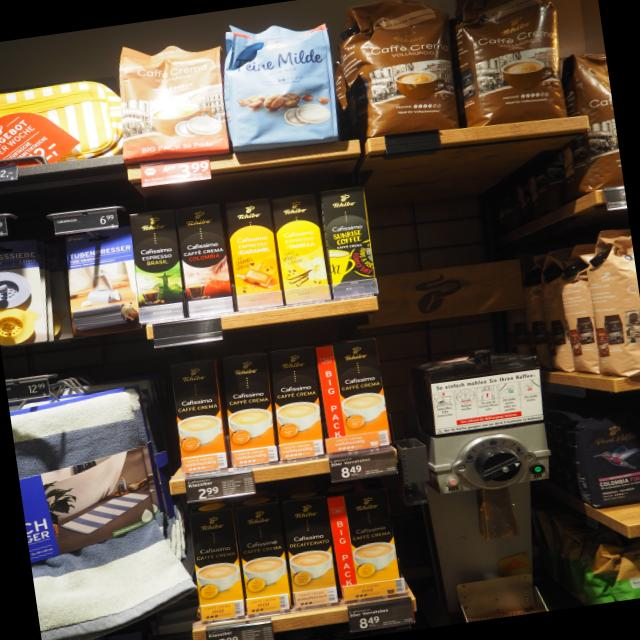C Fino Bohne: (568, 409, 640, 511)
CC Vollmundig: (100, 29, 238, 176)
CC Vollmundig 36 Pads: (332, 0, 464, 146), (440, 0, 572, 135)
FM 36 Pads: (207, 6, 351, 162)
Simo CC Colombia: (174, 203, 236, 317)
Simo CCMild: (323, 487, 406, 604)
Simo CCMild bigpack: (235, 501, 294, 615), (188, 508, 247, 622)
Simo CCVollmundig: (315, 337, 394, 453)
Simo CCVollmundig bigpack: (220, 351, 279, 469), (171, 358, 230, 476), (268, 346, 326, 461)
Simo Decaff: (281, 495, 340, 610)
Simo Es Brazil: (128, 208, 187, 325)
Simo Es Caramel: (223, 196, 286, 312)
Simo Es Vanilla: (270, 190, 332, 306)
Simo Sunrise: (321, 185, 380, 298)
